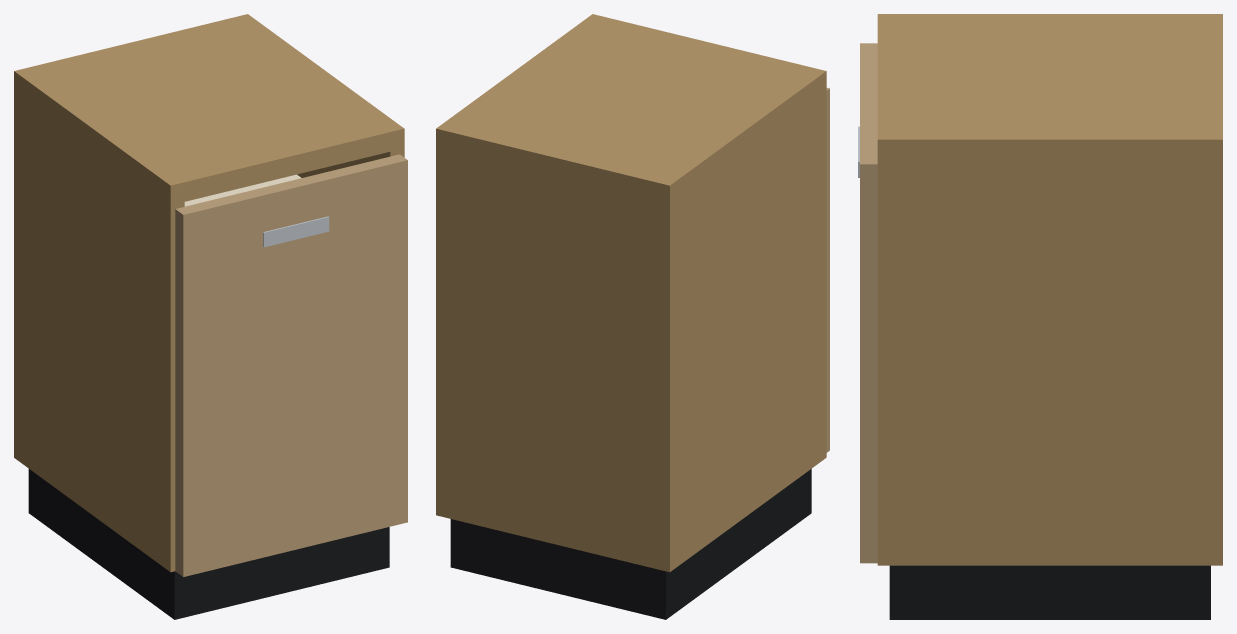
File: pull_out_hamper.glb
3 views of the same model, side by side, from view 1: azimuth 30°, elevation 25°; view 2: azimuth 150°, elevation 25°; view 3: azimuth 270°, elevation 25° (orthographic). The views are drawn at different scales.
Parts seen in each view (by area): view 1: pull_out_hamper_Body, pull_out_hamper_Hamper; view 2: pull_out_hamper_Body, pull_out_hamper_Hamper; view 3: pull_out_hamper_Body, pull_out_hamper_Hamper.
Part boxes in pixels (<box>): pull_out_hamper_Body: <box>14,14,404,619</box>; pull_out_hamper_Hamper: <box>175,154,407,576</box>; pull_out_hamper_Body: <box>436,14,826,619</box>; pull_out_hamper_Hamper: <box>826,88,829,452</box>; pull_out_hamper_Body: <box>877,14,1222,619</box>; pull_out_hamper_Hamper: <box>858,43,877,563</box>.
Size of the model in its own units: 0.5 by 0.9 by 0.613.
